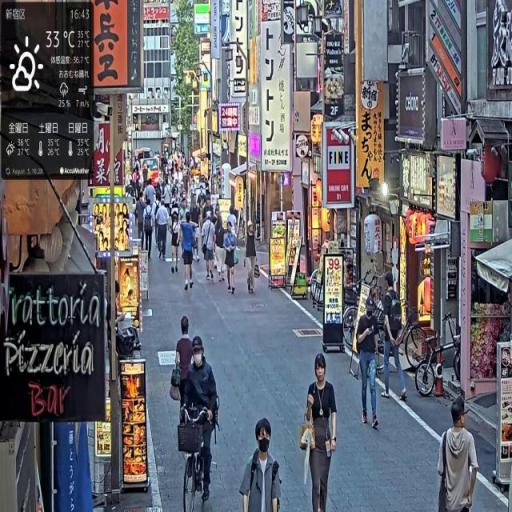person: (184, 335, 221, 504), (300, 352, 339, 512), (438, 394, 482, 512), (379, 271, 412, 409), (241, 416, 284, 512), (355, 297, 384, 432), (173, 316, 195, 416), (179, 209, 198, 293), (223, 220, 240, 295), (244, 223, 260, 294), (202, 213, 218, 283), (157, 198, 171, 263), (171, 211, 183, 273)
